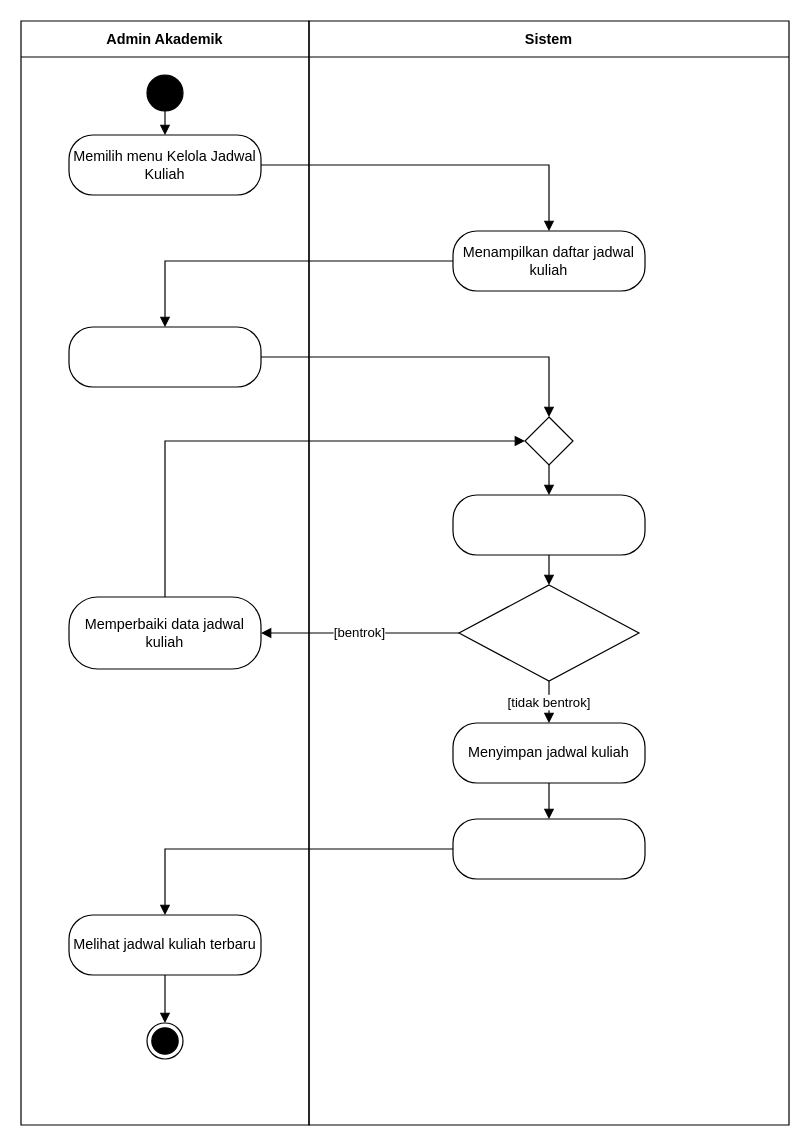
Some shapes in this 810 by 1146 pixel diagram are drawn without their labels. The shapes that lost their labels are listed below. From the top down, each one's centre as x and y in pixels, then its label:
the point at 164,356: Mengisi data jadwal kuliah
the point at 548,524: Memeriksa bentrok jadwal
the point at 548,632: Jadwal bentrok?
the point at 548,848: Menampilkan jadwal kuliah terbaru
